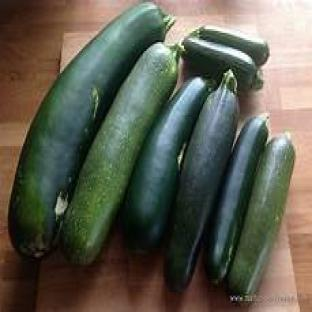Zucchini: (9, 2, 173, 257), (62, 42, 181, 264), (165, 72, 238, 290), (123, 77, 209, 251), (228, 134, 295, 299), (205, 115, 268, 282), (183, 37, 262, 89), (191, 26, 269, 65)
